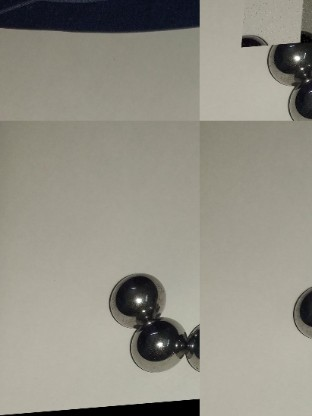ironball: (106, 271, 168, 326), (125, 317, 185, 373), (260, 40, 310, 82), (280, 81, 310, 123), (295, 280, 311, 345), (187, 318, 198, 374)
